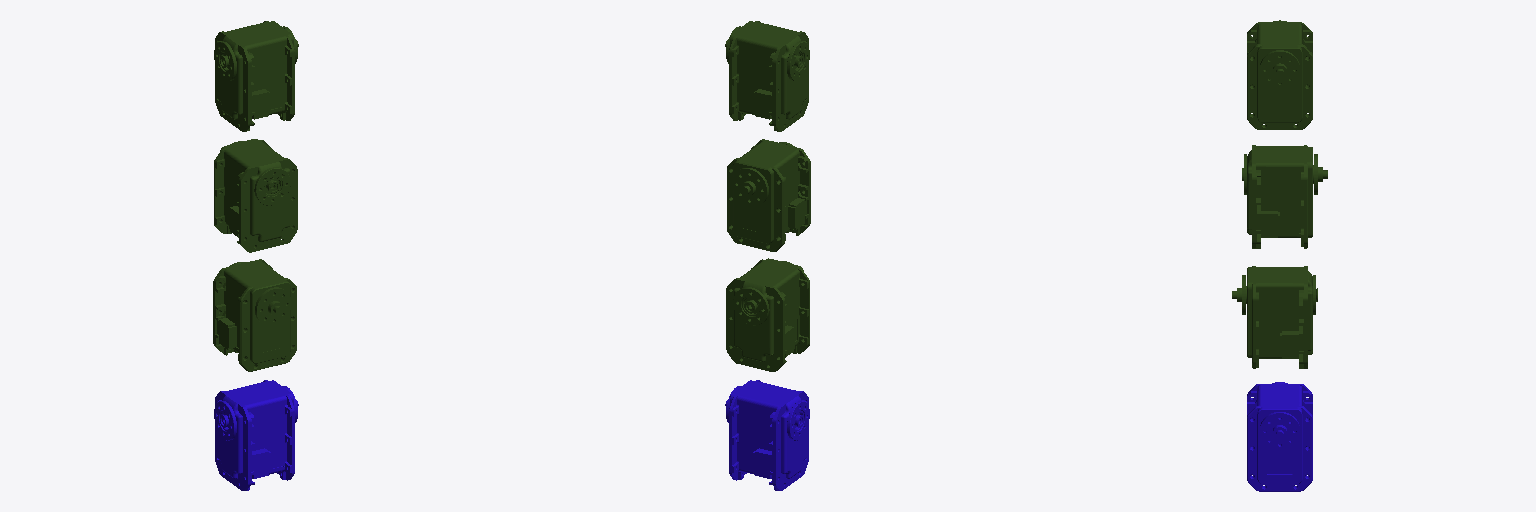
URDF robot description (threeJointsSnake):
<robot name="threeJointsSnake">

  <!-- ros_control plugin -->
  <gazebo>
    <plugin name="gazebo_ros_control" filename="libgazebo_ros_control.so">
      <robotNamespace>/snake</robotNamespace>
      <robotSimType>gazebo_ros_control/DefaultRobotHWSim</robotSimType>
    </plugin>
  </gazebo>

  <material name="Blue">
    <color rgba="0.2 0.1 0.8 1.0"/>
  </material>
  <material name="Green">
    <color rgba="0.22 0.32 0.14 1.0"/>
  </material>

	<!-- attach the base_link to world -->
  <link name="world"/>

  <joint name="fixed" type="fixed">
    <parent link="world"/>
    <child link="base_link"/>
  </joint>

	<link name="base_link">
		<visual>
			<origin
				xyz="0. 0. 0."
				rpy="1.57079632679 0 1.57079632679"
			/>
			<geometry>
				<mesh
					filename="package://snake_robot/snake_description/meshes/servo.stl" scale="0.001 0.001 0.001"/>
			</geometry>
			<material name="Blue"/>
		</visual>
		
		<!-- in gazebo, there has to be a mass and an inertia for each link -->
		<inertial>
      <origin xyz="0 0 0.036" rpy="0 0 0"/>
      <mass value="1"/>
      <inertia
	  ixx="0.1" ixy="0.0" ixz="0.0"
	  iyy="0.1" iyz="0.0"
	  izz="0.1"/>
    </inertial>
	</link>

	<joint name="joint1" type="continuous">
		<origin
			xyz="0. 0. 0."
			rpy="0. 0. 0."
		/>
		<parent link="base_link"/>
		<child link="link2"/>
		<safety_controller k_position="100.0" k_velocity="40.0" soft_lower_limit="-1.5" soft_upper_limit="1.5"/>
		<limit effort="0.01" lower="-1" upper="1" velocity="0.5"/>
		<dynamics damping="0.7"/>
	</joint>

	<link name="link2">
		<visual>
			<origin
				xyz="0. 0. 0.072"
				rpy="1.57079632679 0 0."
			/>
			<geometry>
				<mesh
					filename="package://snake_robot/snake_description/meshes/servo.stl" scale="0.001 0.001 0.001"/>
			</geometry>
			<material name="Green"/>
		</visual>

		<inertial>
	    <origin xyz="0 0 0.036" rpy="0 0 0"/>
	    <mass value="1"/>
	    <inertia
		  ixx="0.1" ixy="0.0" ixz="0.0"
		  iyy="0.1" iyz="0.0"
		  izz="0.1"/>
    </inertial>
	</link>

	<joint name="joint2" type="continuous">
		<origin
			xyz="0. 0. 0.072"
			rpy="0. 0. 1.57079632679"
		/>
		<parent link="link2"/>
		<child link="link3"/>
		<safety_controller k_position="100.0" k_velocity="40.0" soft_lower_limit="-1.5" soft_upper_limit="1.5"/>
		<limit effort="0.01" lower="-1" upper="1" velocity="0.5"/>
		<dynamics damping="0.7"/>
	</joint>

	<link name="link3">
		<visual>
			<origin
				xyz="0. 0. 0.072"
				rpy="1.57079632679 0 1.57079632679"
			/>
			<geometry>
				<mesh
					filename="package://snake_robot/snake_description/meshes/servo.stl" scale="0.001 0.001 0.001"/>
			</geometry>
			<material name="Green"/>
		</visual>

		<inertial>
	    <origin xyz="0 0 0.036" rpy="0 0 0"/>
	    <mass value="1"/>
	    <inertia
		  ixx="0.1" ixy="0.0" ixz="0.0"
		  iyy="0.1" iyz="0.0"
		  izz="0.1"/>
	  </inertial>
	</link>

	<joint name="joint3" type="continuous">
		<origin
			xyz="0. 0. 0.072"
			rpy="0. 0. 0."
		/>
		<parent link="link3"/>
		<child link="link4"/>
		<safety_controller k_position="100.0" k_velocity="40.0" soft_lower_limit="-1.5" soft_upper_limit="1.5"/>
		<limit effort="0.01" lower="-1" upper="1" velocity="0.5"/>
		<dynamics damping="0.7"/>
	</joint>

	<link name="link4">
		<visual>
			<origin
				xyz="0. 0. 0.072"
				rpy="1.57079632679 0 0."
			/>
			<geometry>
				<mesh
					filename="package://snake_robot/snake_description/meshes/servo.stl" scale="0.001 0.001 0.001"/>
			</geometry>
			<material name="Green"/>
		</visual>

		<inertial>
	    <origin xyz="0 0 0.036" rpy="0 0 0"/>
	    <mass value="1"/>
	    <inertia
		  ixx="0.1" ixy="0.0" ixz="0.0"
		  iyy="0.1" iyz="0.0"
		  izz="0.1"/>
    </inertial>
	</link>

	<transmission name="trans1">
	  <type>transmission_interface/SimpleTransmission</type>
	  <joint name="joint1">
	    <hardwareInterface>hardware_interface/PositionJointInterface</hardwareInterface>
	  </joint>
	  <actuator name="servo1">
	    <mechanicalReduction>1</mechanicalReduction>
	    <hardwareInterface>hardware_interface/PositionJointInterface</hardwareInterface>
	  </actuator>
	</transmission>

	<transmission name="trans2">
	  <type>transmission_interface/SimpleTransmission</type>
	  <joint name="joint2">
	    <hardwareInterface>hardware_interface/PositionJointInterface</hardwareInterface>
	  </joint>
	  <actuator name="servo2">
	    <mechanicalReduction>1</mechanicalReduction>
	    <hardwareInterface>hardware_interface/PositionJointInterface</hardwareInterface>
	  </actuator>
	</transmission>

	<transmission name="trans3">
	  <type>transmission_interface/SimpleTransmission</type>
	  <joint name="joint3">
	    <hardwareInterface>hardware_interface/PositionJointInterface</hardwareInterface>
	  </joint>
	  <actuator name="servo3">
	    <mechanicalReduction>1</mechanicalReduction>
	    <hardwareInterface>hardware_interface/PositionJointInterface</hardwareInterface>
	  </actuator>
	</transmission>
</robot>

--- Render facts (derived) ---
Views: 3 orthographic renders of the robot side by side, from view 1: azimuth 30°, elevation 25°; view 2: azimuth 150°, elevation 25°; view 3: azimuth 270°, elevation 25°.
Model threeJointsSnake with 5 links and 4 joints (3 continuous, 1 fixed), rooted at world, posed every joint at zero.
Visible links, largest first — view 1: link3, link2, link4, base_link; view 2: link2, link3, link4, base_link; view 3: base_link, link4, link3, link2.
Boxes of the visible links, box(x1,y1,x2,y2) form: link3: box(214, 139, 297, 252); link2: box(213, 259, 296, 371); link4: box(214, 21, 298, 131); base_link: box(214, 380, 298, 490); link2: box(726, 258, 809, 371); link3: box(727, 139, 810, 251); link4: box(725, 21, 809, 131); base_link: box(725, 380, 809, 490); base_link: box(1247, 382, 1312, 491); link4: box(1247, 20, 1312, 129); link3: box(1242, 145, 1327, 248); link2: box(1232, 266, 1317, 368).
Size in the robot's own frame: 0.0464 by 0.0517 by 0.2666 metres.
Meshes: 1 distinct files referenced, 4 mesh visuals loaded (1 binary STL).